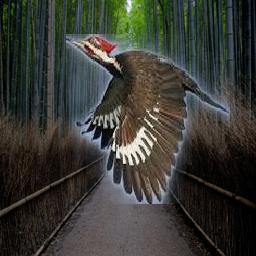Woodpecker: (66, 34, 230, 204)
